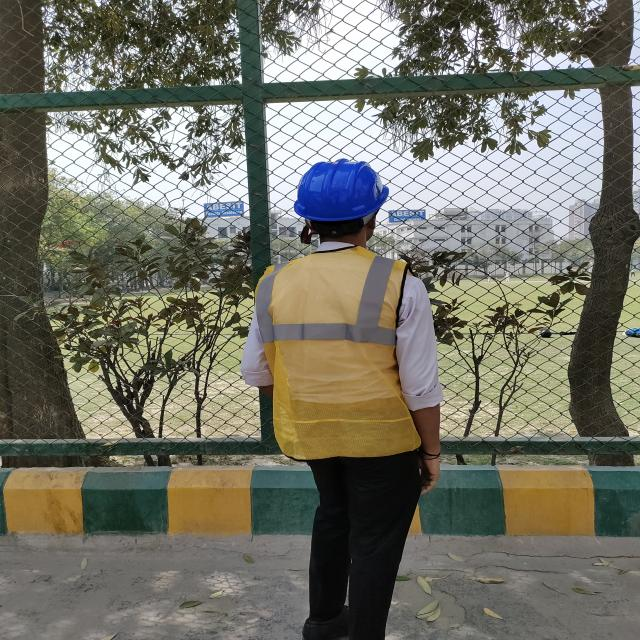safe: (250, 159, 434, 640)
